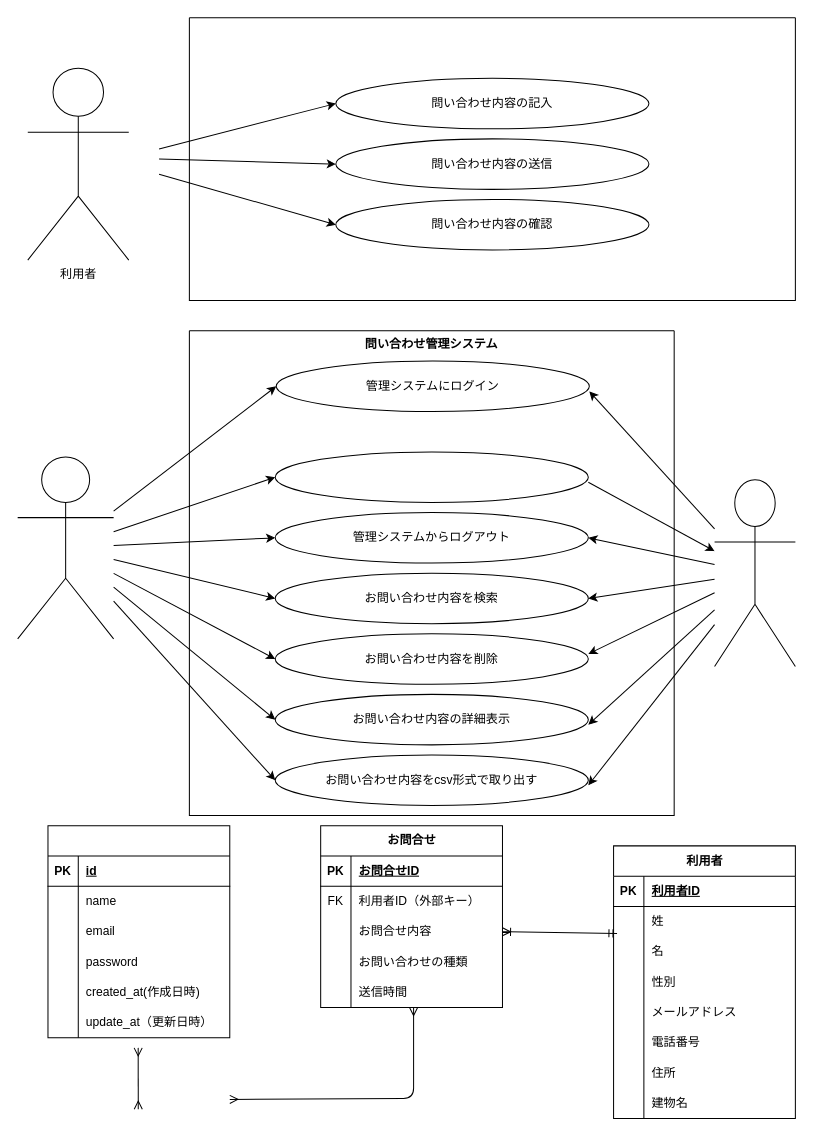
Some shapes in this 813 by 1136 pixel diagram are drawn without their labels. The shapes that lost their labels are listed below. From the top down, each one's box as (x1, y1, x2, y2) in pixels, then its label:
(188, 17, 795, 300): 問い合わせ送信システム
(274, 451, 588, 502): 新規ユーザーの作成・登録
(17, 456, 114, 639): 管理者
(714, 479, 795, 667): 新規管理者
(47, 825, 230, 1038): users
